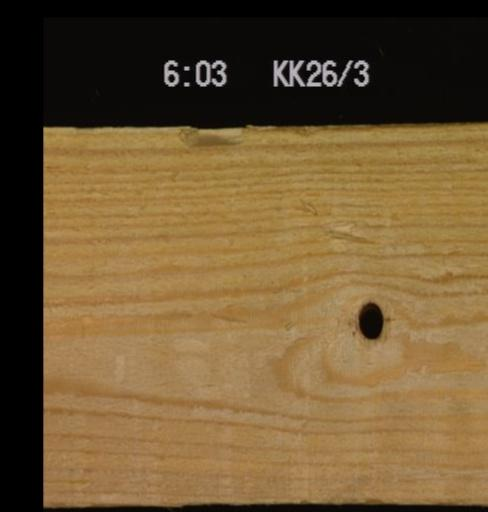wave: (172, 125, 252, 152)
